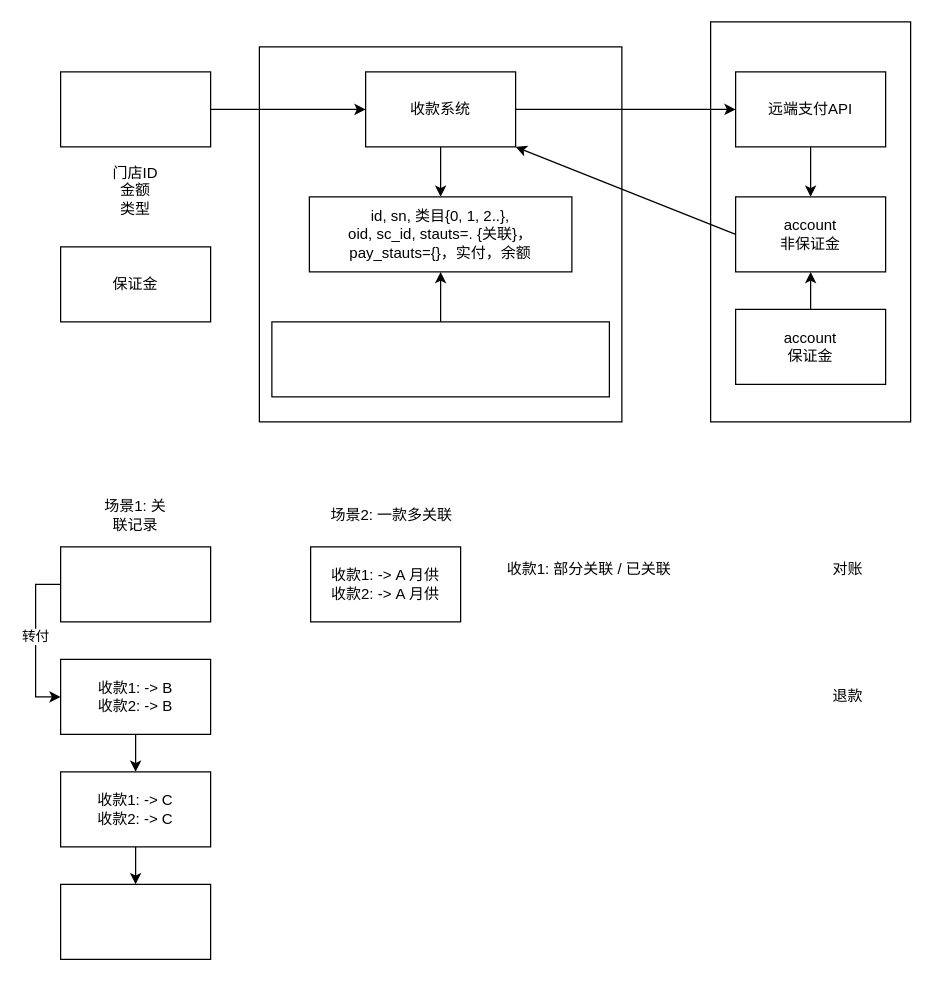
Image size: 933x981. Some labels were removed from this diagram. The shapes that lost their labels are listed below. From the top down, each one's centre as x and y in pixels, then its label:
At pixel 135 109: "预收款发起".
At pixel 440 359: "table: account account_id, ext_crm_id, ext_oid, ext_used_oid， amount".
At pixel 135 584: "收款1: -> A -> 收款2: -> A".
At pixel 135 921: "收款 : 扣除".
